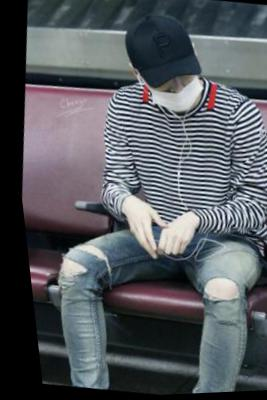WRONG: (141, 69, 203, 119)
